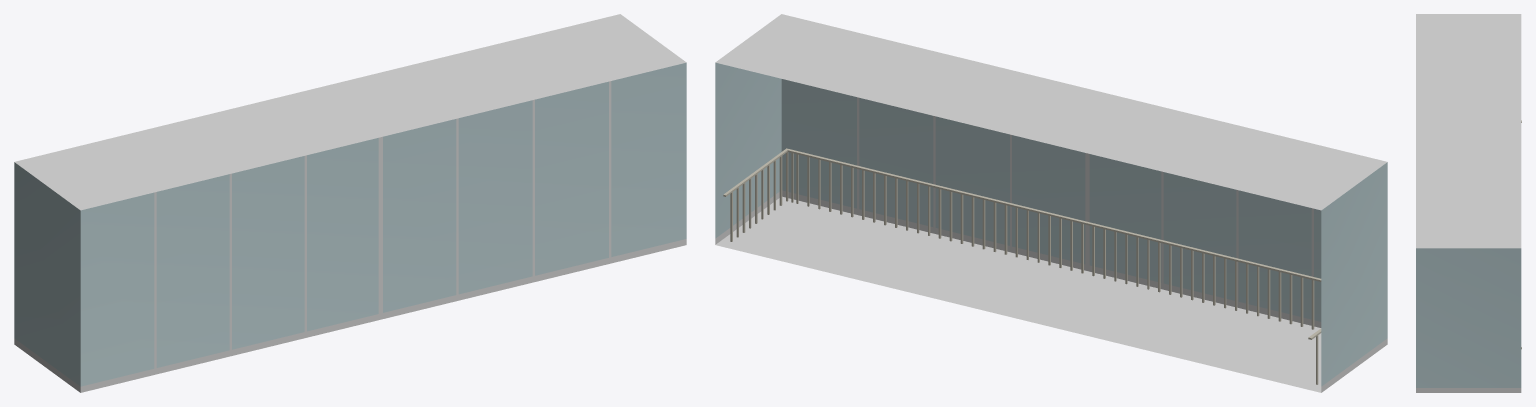
File: Closed balcony.fbx
3 views of the same model, side by side, from view 1: azimuth 30°, elevation 25°; view 2: azimuth 150°, elevation 25°; view 3: azimuth 270°, elevation 25° (orthographic). The views are drawn at different scales.
Parts seen in each view (by area): view 1: Cube.394; view 2: Cube.394; view 3: Cube.394.
Part boxes in pixels (bbox=[...]): Cube.394: bbox=[14, 14, 686, 392]; Cube.394: bbox=[715, 14, 1387, 392]; Cube.394: bbox=[1416, 14, 1521, 392].
Bounding box in the file's own units: 2533 × 729 × 484.
